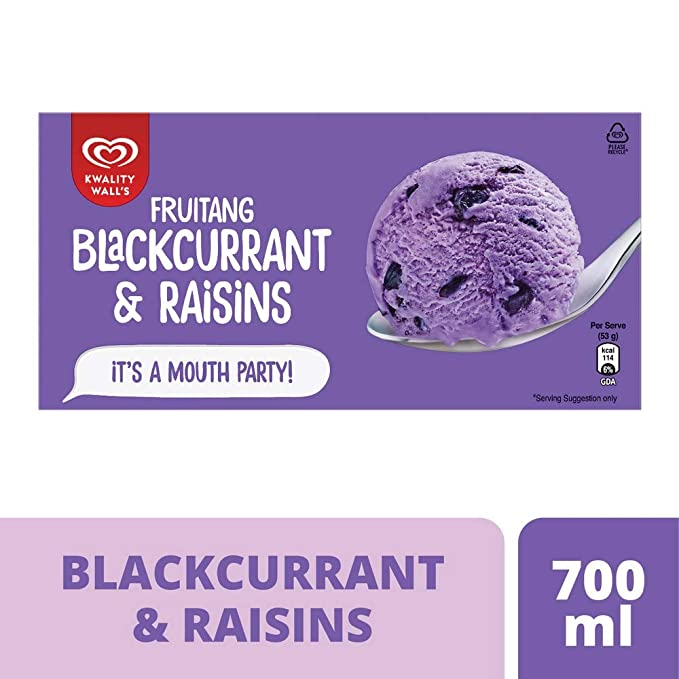Kwality_Walls: (73, 130, 154, 201)
